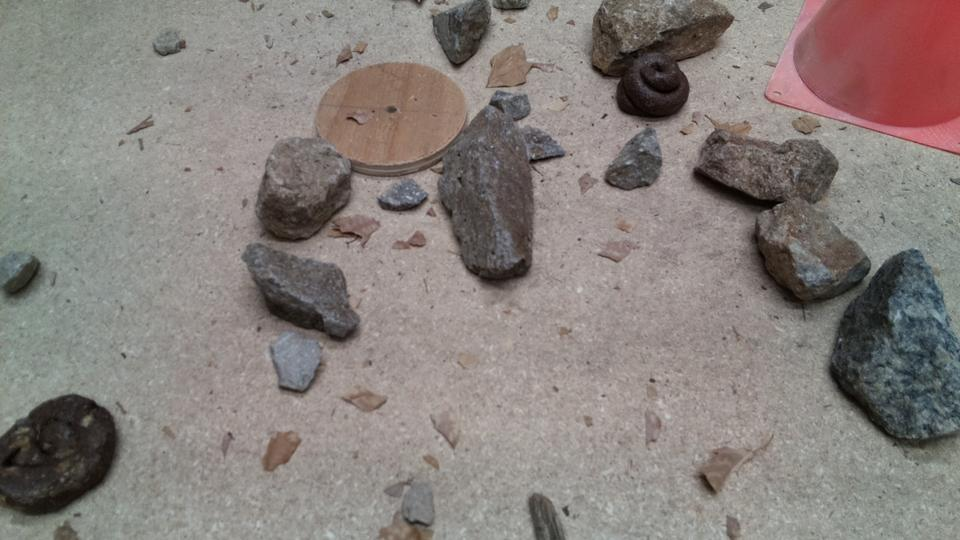poop: (1, 390, 116, 517), (614, 51, 690, 120)
